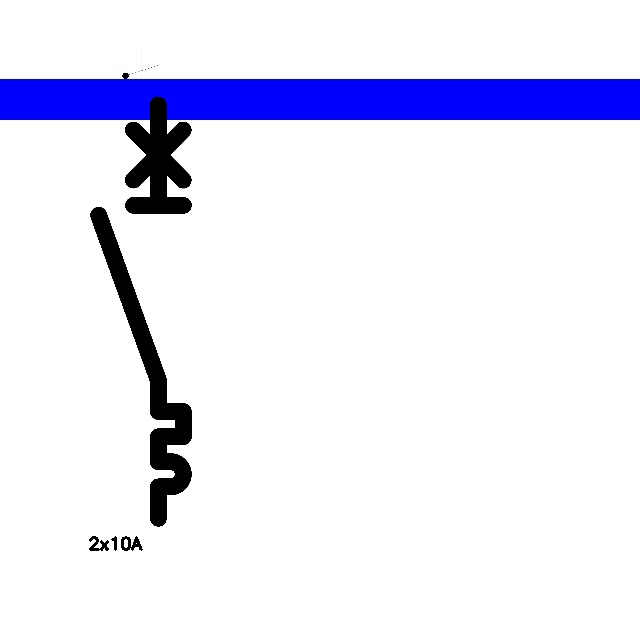interruptor_termomagnetico: (88, 94, 194, 528)
